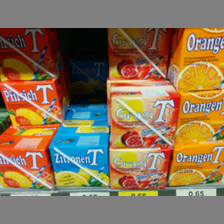juice: (108, 82, 181, 148), (164, 28, 224, 88), (52, 126, 108, 188), (107, 28, 172, 80), (1, 28, 64, 81), (1, 81, 70, 128), (1, 127, 52, 188), (173, 90, 224, 149)
